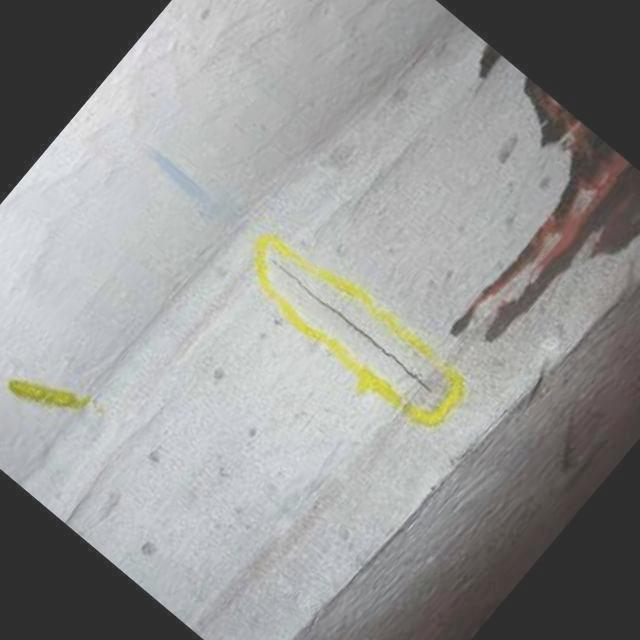defect: (262, 252, 434, 393)
